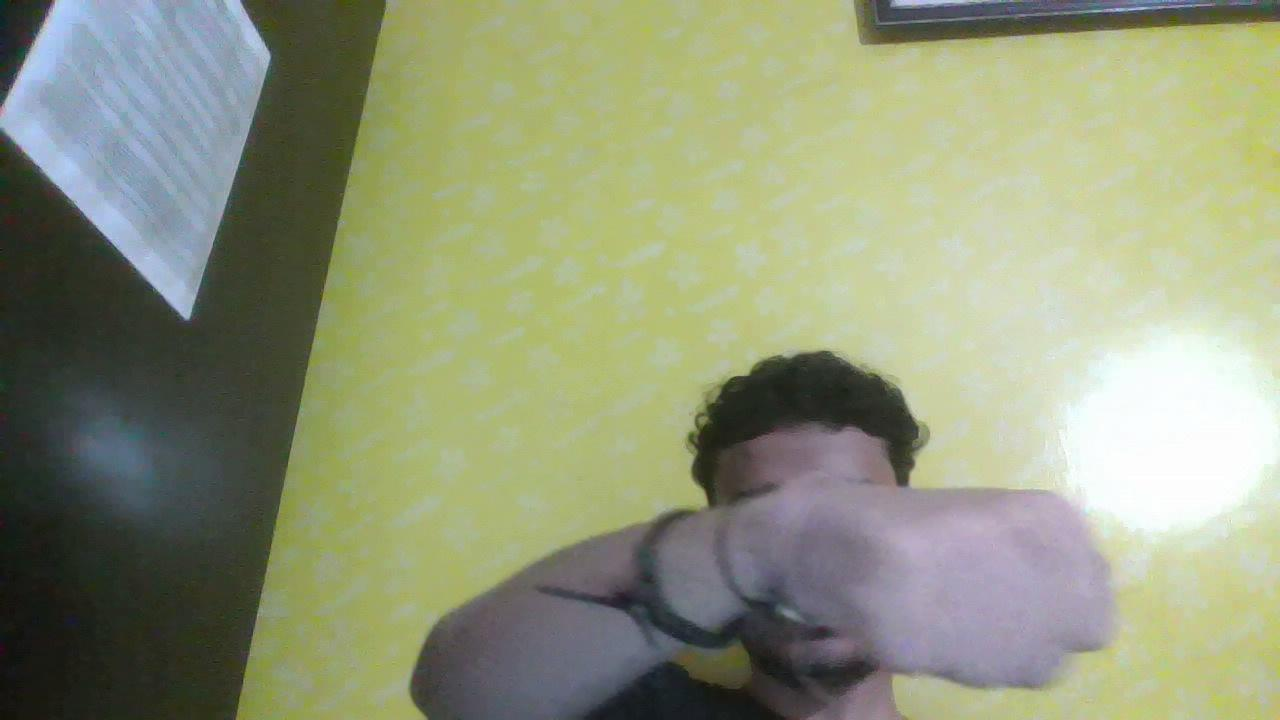Yes: (731, 421, 1182, 720)
